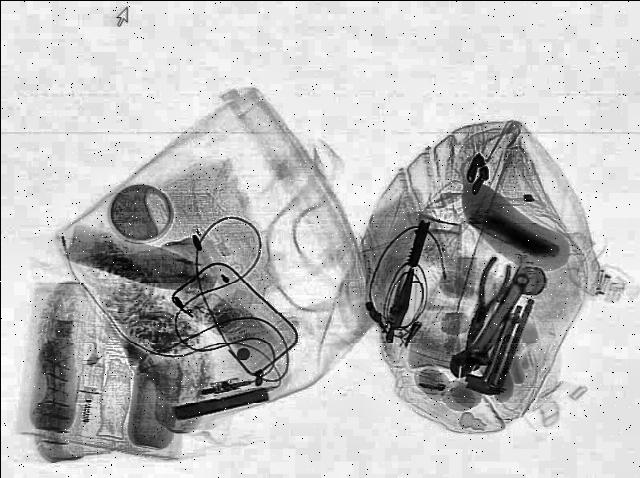Pliers: (452, 254, 520, 351)
Wrench: (441, 268, 545, 382)
